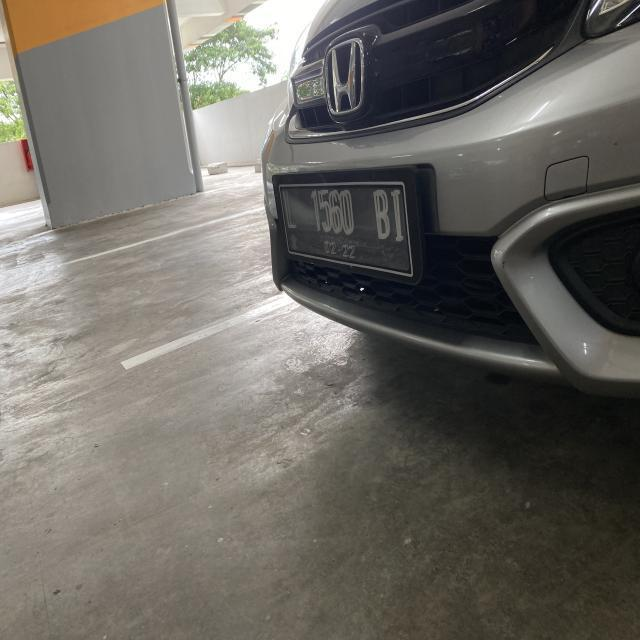0: (340, 190, 356, 235)
1: (310, 190, 320, 233)
5: (318, 189, 331, 233)
6: (330, 188, 342, 238)
B: (370, 186, 390, 238)
I: (392, 187, 404, 245)
L: (280, 191, 300, 234)
